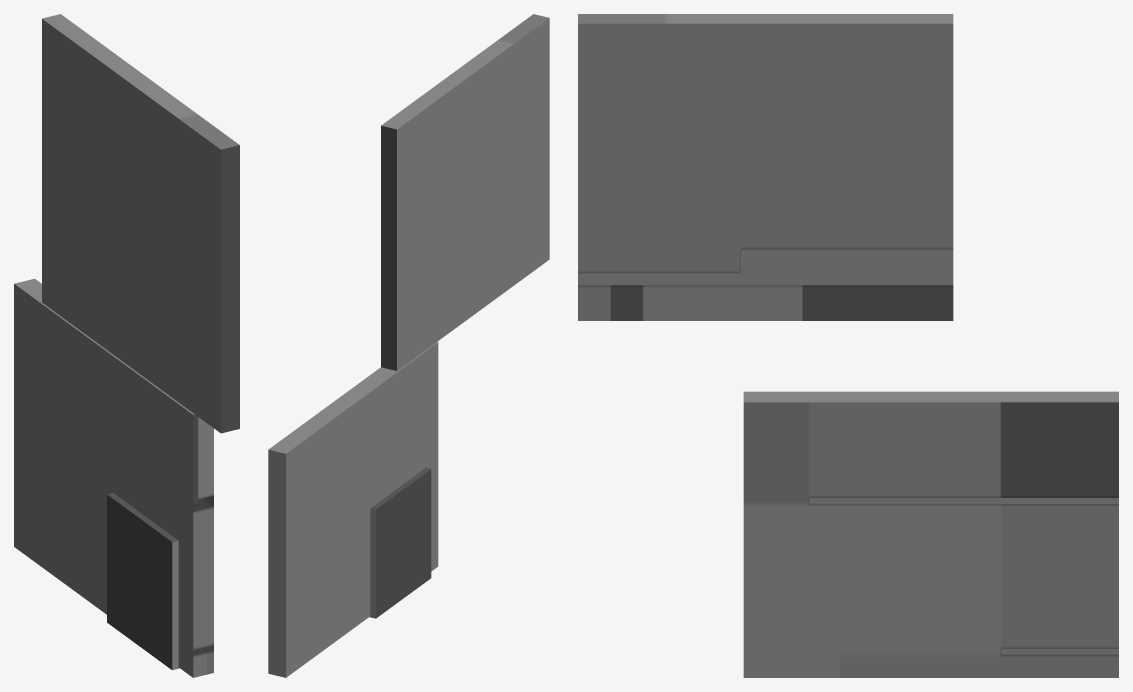
3 views of the same model, side by side, from view 1: azimuth 30°, elevation 25°; view 2: azimuth 150°, elevation 25°; view 3: azimuth 270°, elevation 25° (orthographic). The views are drawn at different scales.
Bounding box in the file's own units: 0.0827 × 0.6577 × 0.5129.
